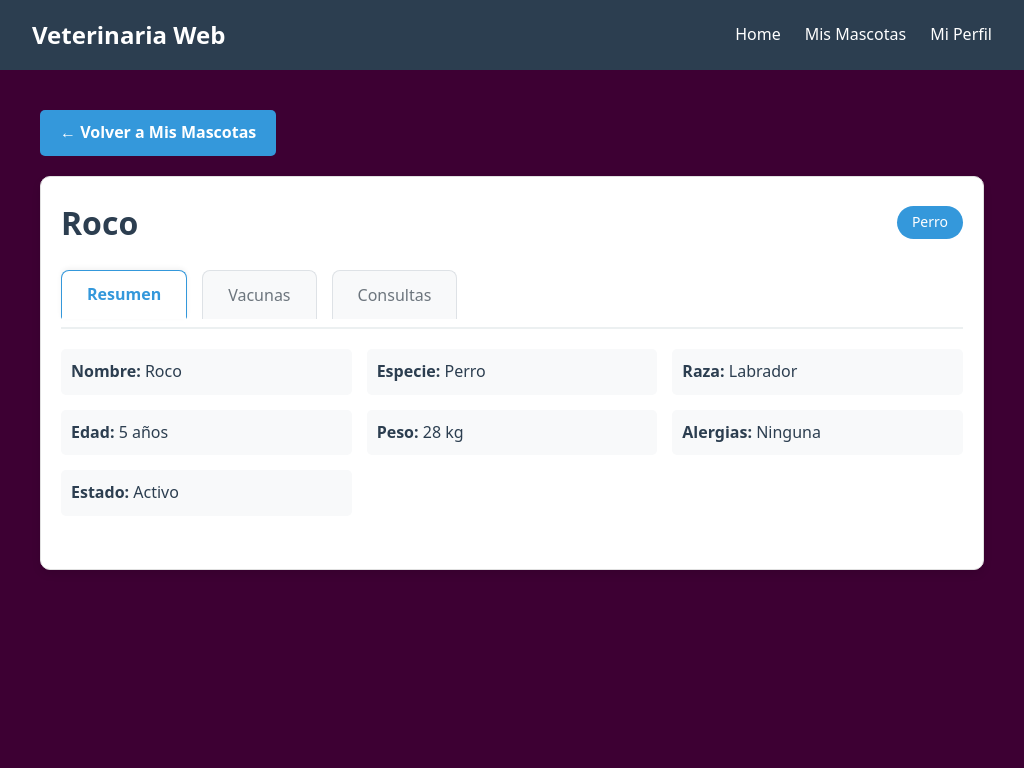
Test case: Pet Profile Page - Veterinaria App › should switch to Appointments tab
Click the button "Consultas": coordinates (395, 295) [332, 270, 458, 319]
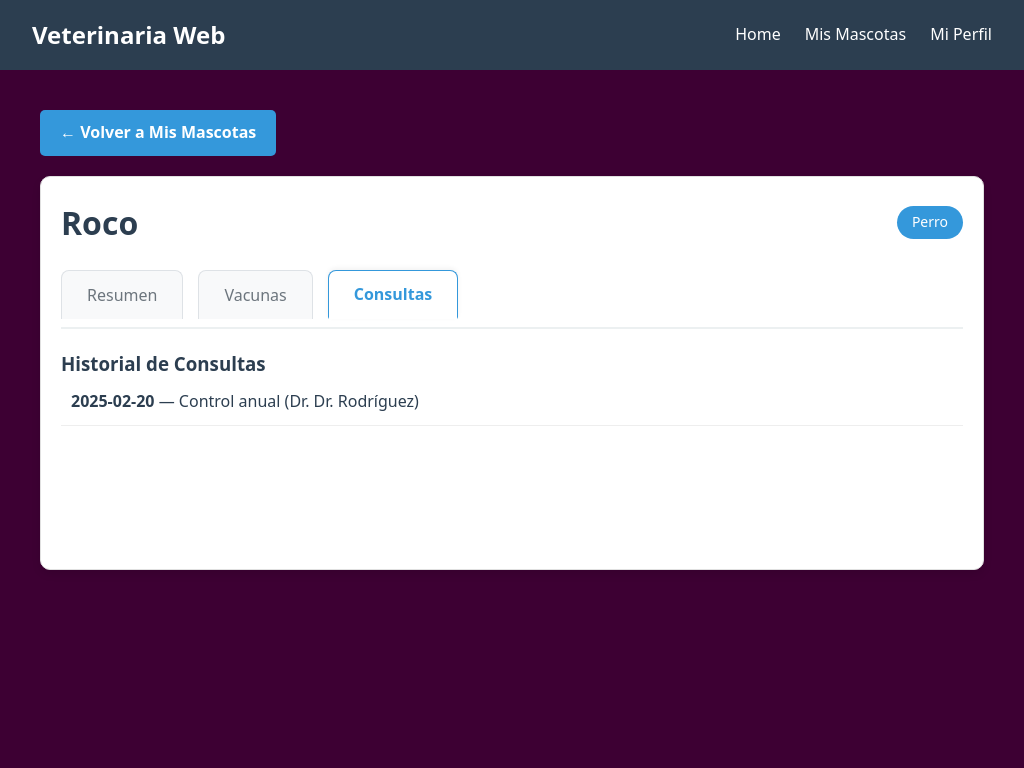
expect the heading "Historial de Consultas" is shown: met, box [61, 351, 266, 376]
expect the list item "Control anual" is shown: met, box [179, 390, 281, 412]
expect the list item "Dr. Rodríguez" is shown: met, box [314, 390, 415, 412]
